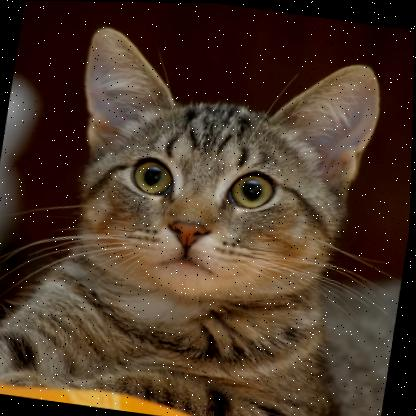cat: (33, 22, 390, 416)
